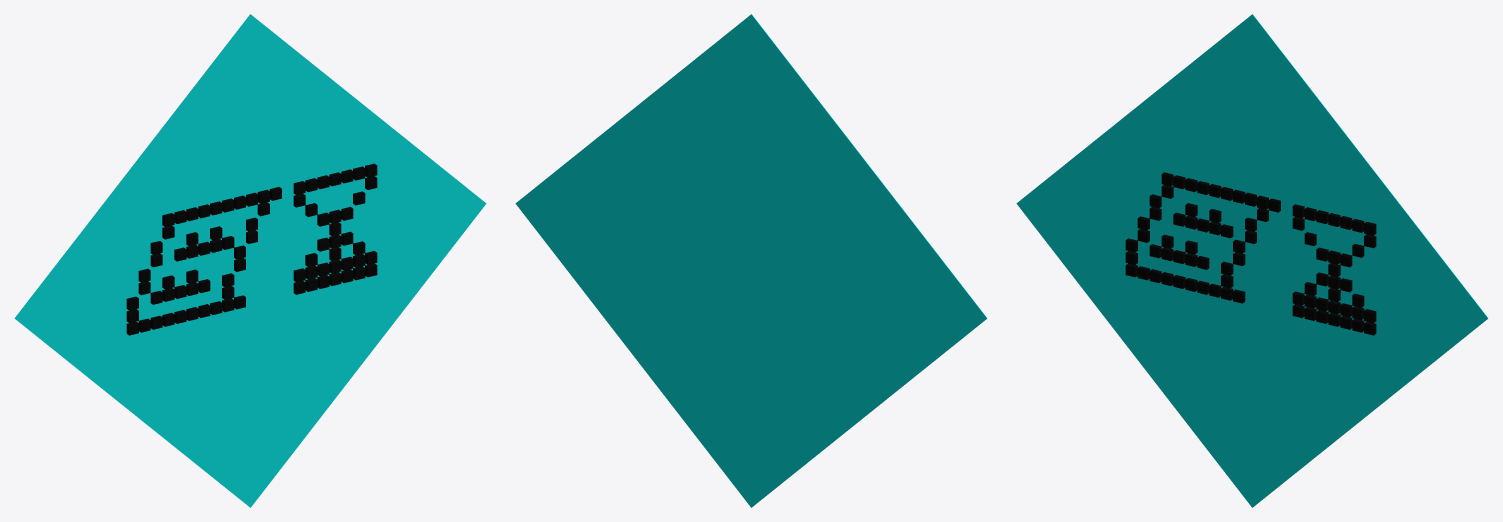
The model's file is ProgressTurnAreaSetCoins.fbx.
The picture shows the model from 3 angles, left to right: view 1: azimuth 30°, elevation 25°; view 2: azimuth 150°, elevation 25°; view 3: azimuth 330°, elevation 25°; orthographic projection.
Visible parts, largest first — view 1: Cube.001; view 2: Cube.001; view 3: Cube.001.
Boxes of the visible parts, x1,y1,x2,y2 form: Cube.001: (14,14,486,507); Cube.001: (515,14,987,507); Cube.001: (1016,14,1488,507).
Size of the model in its own units: 198 by 198 by 2.1.
